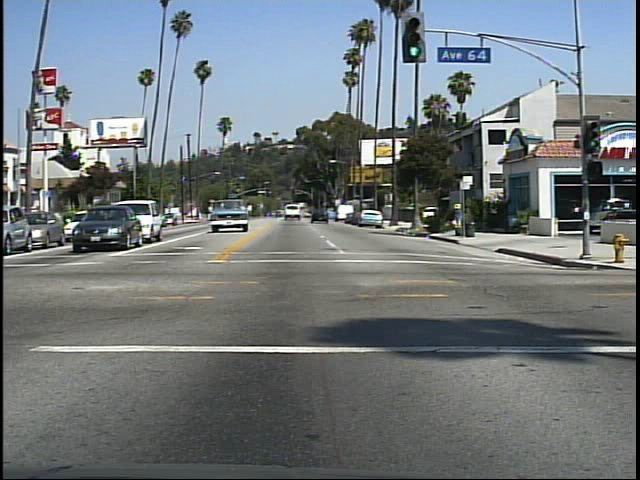person: (450, 198, 471, 241)
